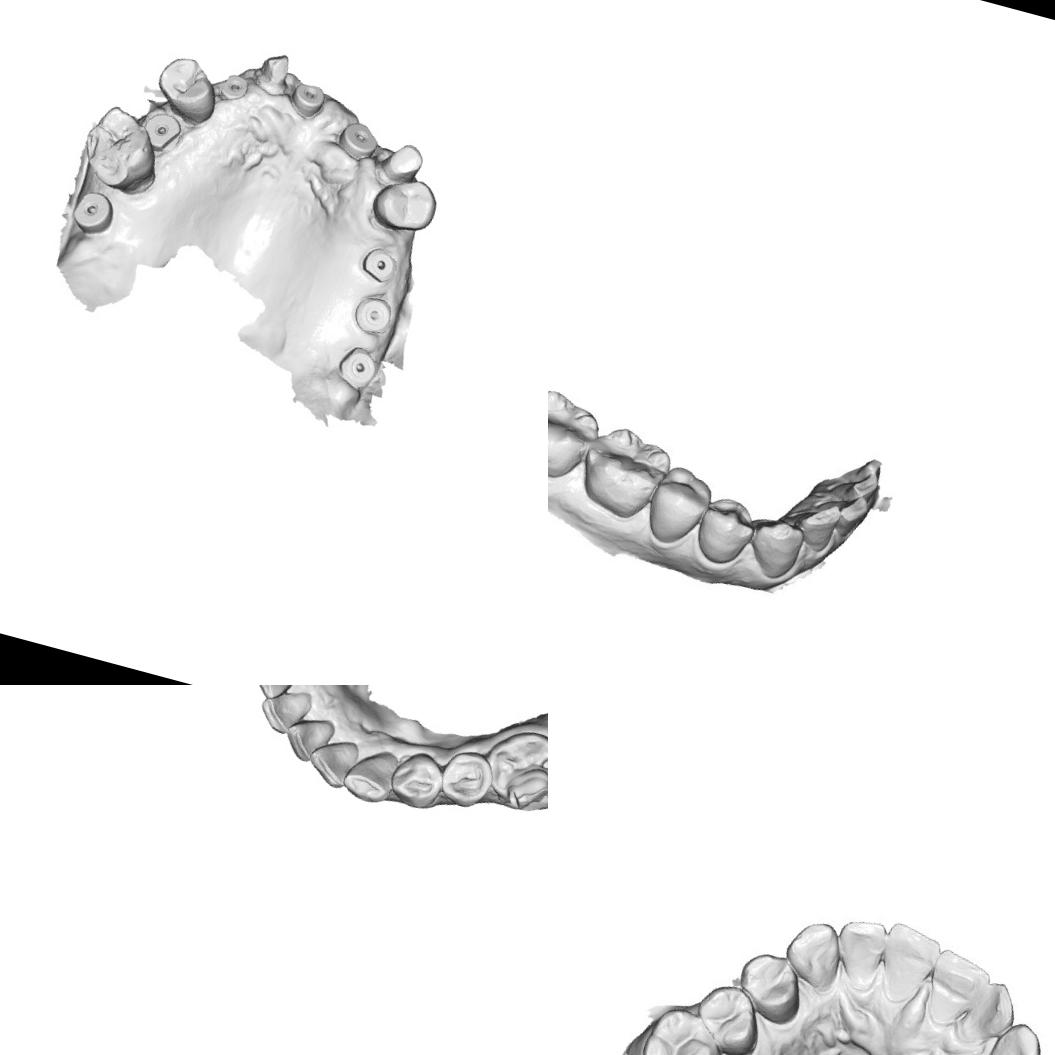canine: (776, 912, 852, 996), (742, 510, 810, 584), (340, 741, 404, 807), (977, 1013, 1049, 1055)
crown: (369, 134, 427, 194), (250, 46, 296, 98)
implant: (68, 186, 120, 240), (332, 341, 382, 394), (332, 116, 382, 165), (348, 291, 397, 340), (138, 107, 187, 156), (284, 78, 330, 123), (356, 242, 402, 286), (217, 70, 251, 105)
incisor: (918, 944, 996, 1034), (870, 916, 944, 1004), (961, 972, 1026, 1048), (829, 913, 892, 989), (276, 706, 336, 770), (303, 732, 364, 792), (253, 685, 315, 740), (791, 496, 843, 560), (826, 491, 875, 553), (844, 468, 884, 514), (241, 685, 303, 705)
molar: (572, 413, 674, 527), (73, 98, 172, 202), (474, 720, 548, 819), (548, 379, 605, 490), (630, 1000, 736, 1055)
premolar: (635, 458, 718, 548), (730, 943, 811, 1026), (687, 977, 770, 1055), (147, 48, 226, 128), (688, 486, 761, 570), (366, 168, 443, 239), (384, 745, 450, 813), (435, 744, 498, 812)
